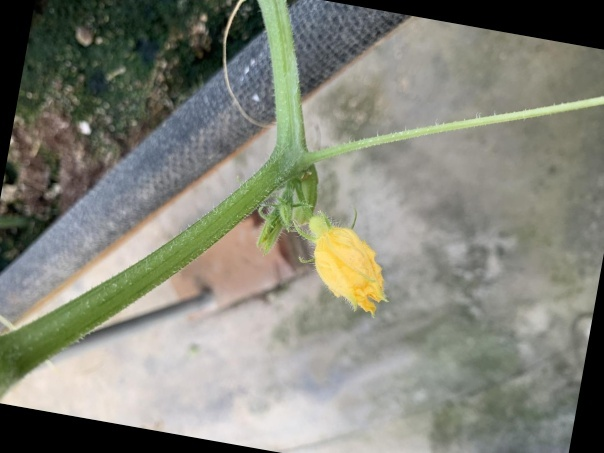born: (305, 205, 403, 311)
